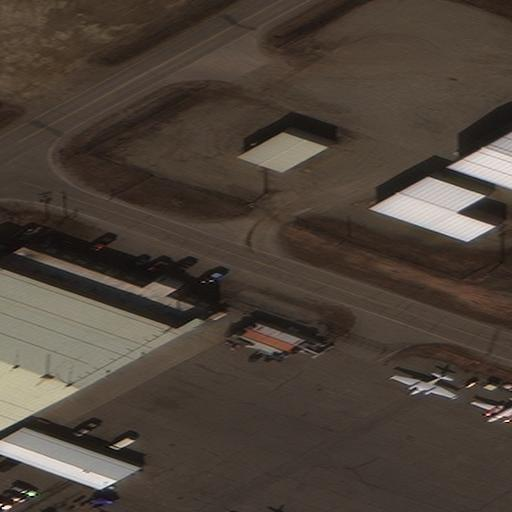Small Civil Transport: (388, 375, 453, 399), (469, 401, 512, 424)
